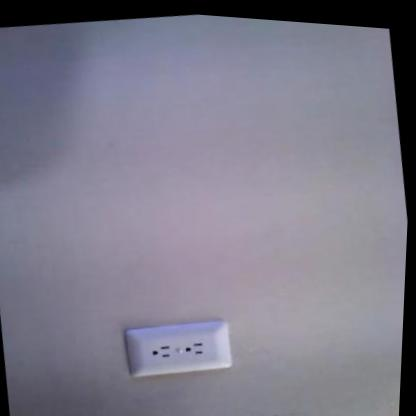OUTLET: (124, 315, 233, 382)
